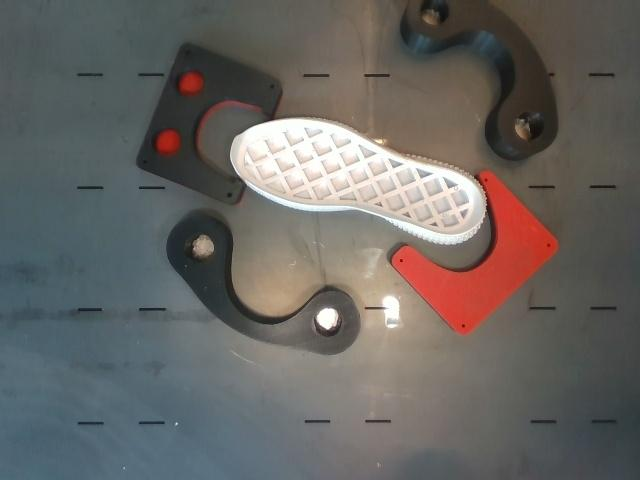shoes: (231, 120, 484, 235)
